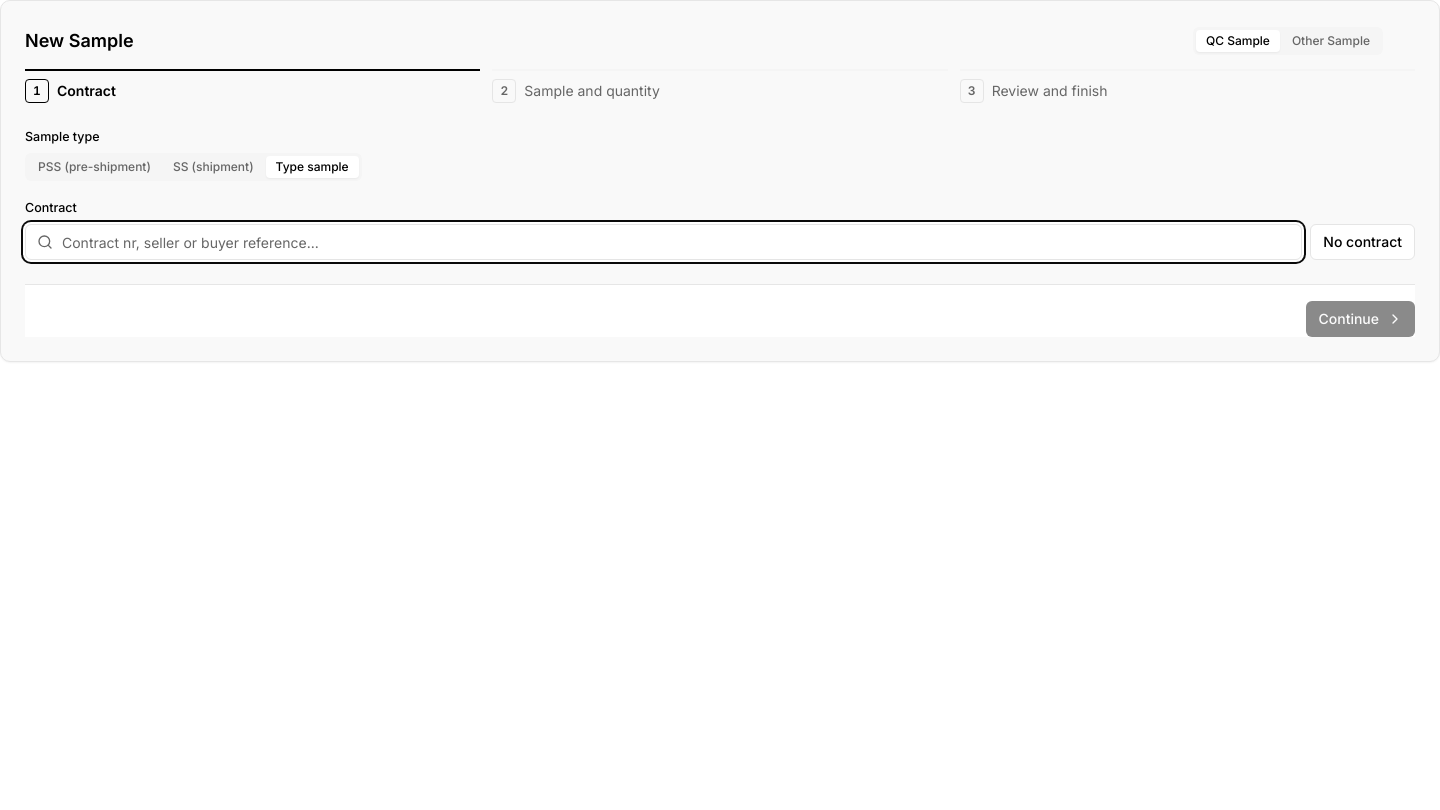
Test: SampleIntakeForm — a Step-1 contract pick › picks the first match on Enter and still stops at the details step when a reference is blank
Type "42611" into the dropdown with placeholder "Contract nr, seller or buyer reference..." at (664, 242), box x1=25 y1=224 x2=1302 y2=260
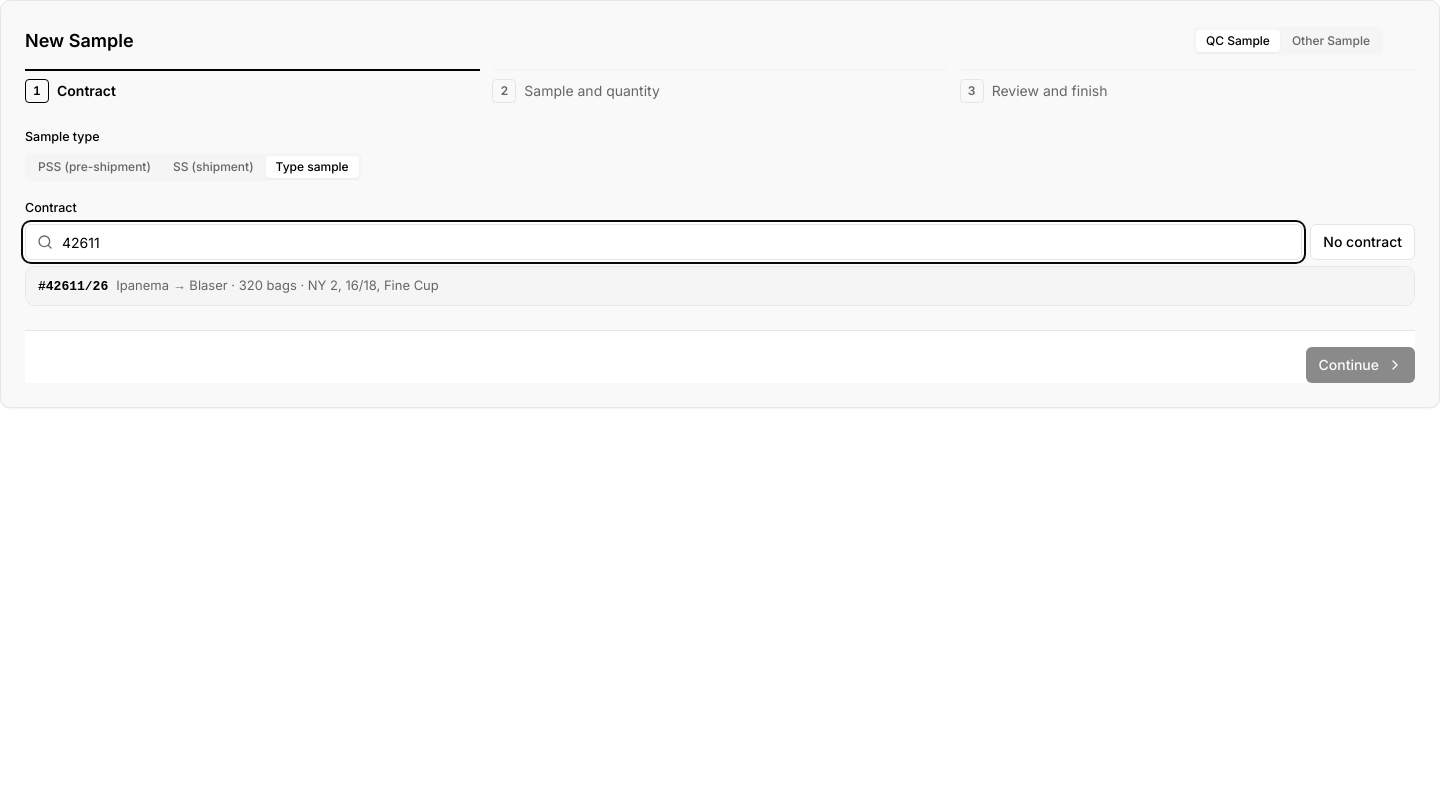
Check: the text "#42611/26" is shown, box x1=38 y1=277 x2=108 y2=297
Press Enter in the dropdown with placeholder "Contract nr, seller or buyer reference...", box x1=25 y1=224 x2=1302 y2=260
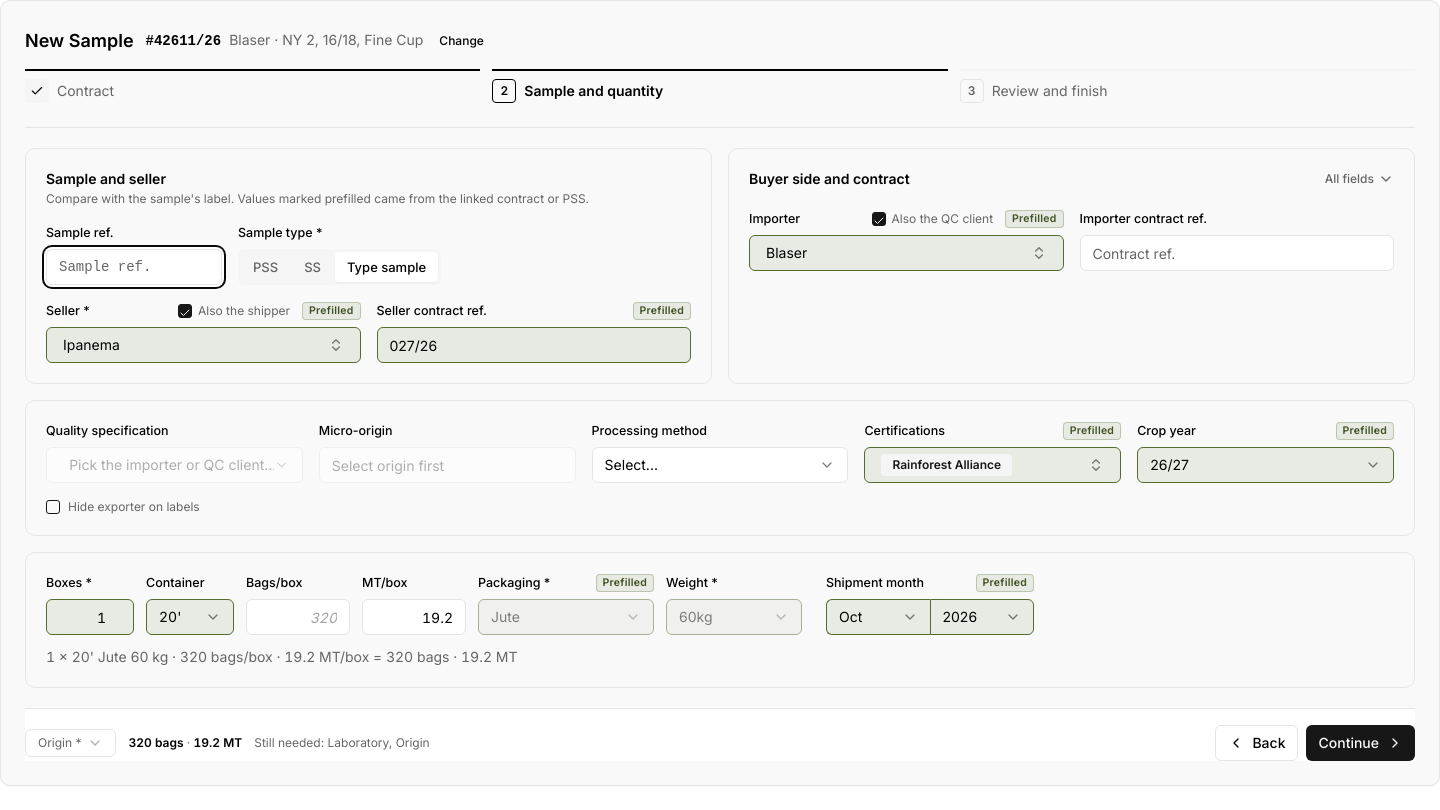
Check: the element with test id "linked-header" shows "Blaser · NY 2, 16/18, Fine Cup", box x1=229 y1=31 x2=423 y2=48
Check: the element with test id "linked-header" shows "#42611/26", box x1=146 y1=33 x2=221 y2=49
